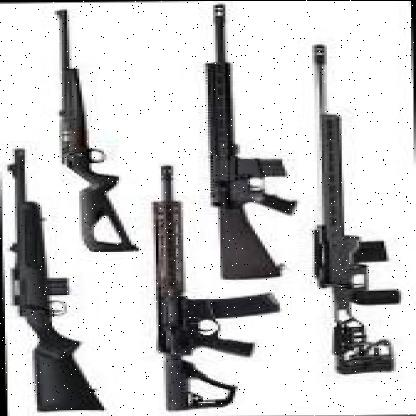rifle: (304, 38, 406, 374), (195, 1, 298, 282), (4, 149, 74, 414)
